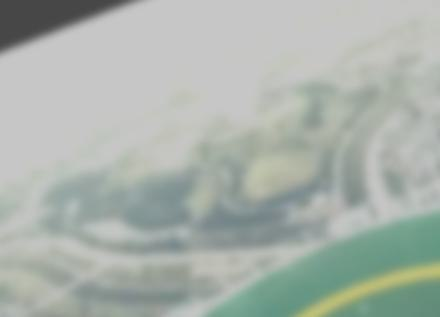Apron: (295, 257, 440, 317)
